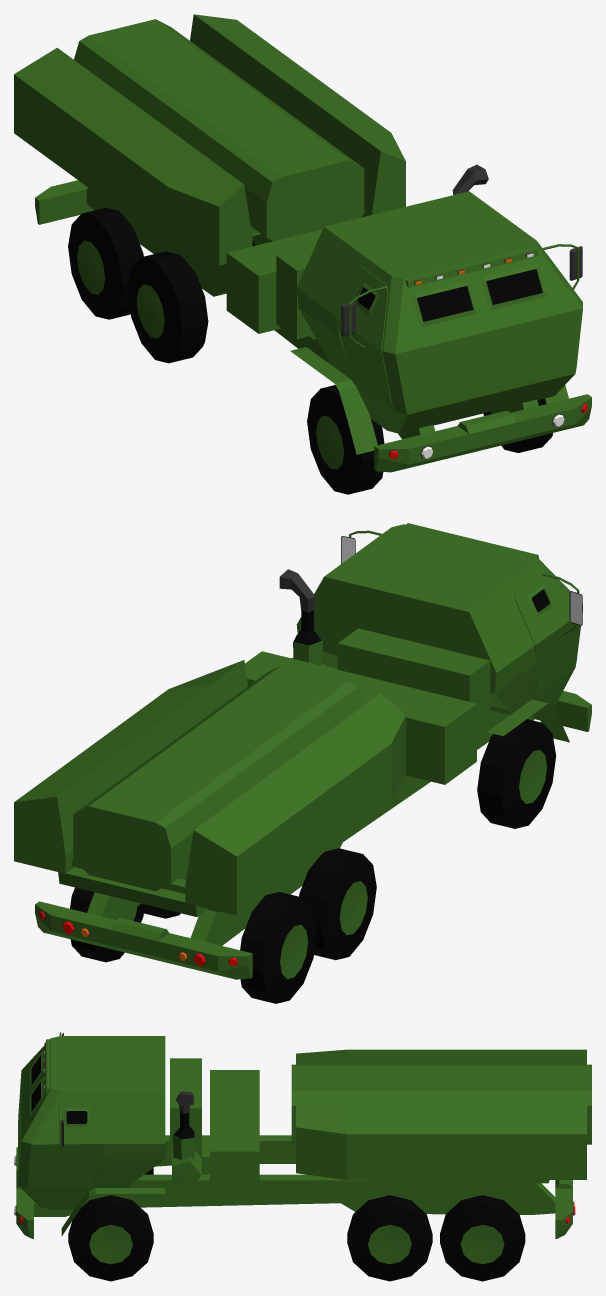
The picture shows the model from 3 angles, top to bottom: view 1: azimuth 30°, elevation 25°; view 2: azimuth 150°, elevation 25°; view 3: azimuth 270°, elevation 25°; orthographic projection. The views are drawn at different scales.
Visible parts, largest first — view 1: Plane.020, Cube.008, Cylinder.028, Cylinder.029, Cylinder.033, Plane.021, Cylinder.031, Cylinder.034; view 2: Plane.020, Cube.008, Cylinder.028, Cylinder.031, Cylinder.033, Cylinder.029, Plane.021, Cylinder.030; view 3: Plane.020, Cube.008, Cylinder.028, Cylinder.030, Cylinder.032, Cylinder.034, Plane.023, Cube.009.
Part boxes in pixels (x1,y1,x2,y2): Plane.020: [35, 164, 591, 472]; Cube.008: [14, 14, 405, 265]; Cylinder.028: [74, 19, 364, 241]; Cylinder.029: [127, 251, 208, 363]; Cylinder.033: [68, 207, 143, 319]; Plane.021: [334, 266, 392, 406]; Cylinder.031: [307, 385, 384, 494]; Cylinder.034: [483, 398, 552, 452]; Plane.020: [35, 523, 591, 979]; Cube.008: [14, 660, 405, 916]; Cylinder.028: [73, 665, 363, 891]; Cylinder.031: [477, 719, 555, 828]; Cylinder.033: [240, 892, 316, 1003]; Cylinder.029: [299, 848, 376, 960]; Plane.021: [514, 573, 582, 692]; Cylinder.030: [70, 887, 144, 962]; Plane.020: [14, 1036, 575, 1238]; Cube.008: [296, 1049, 586, 1179]; Cylinder.028: [291, 1064, 591, 1144]; Cylinder.030: [440, 1195, 525, 1281]; Cylinder.032: [347, 1195, 432, 1281]; Cylinder.034: [68, 1195, 153, 1281]; Plane.023: [29, 1099, 105, 1186]; Cube.009: [373, 1180, 549, 1183].
Size of the model in its own units: 338 by 323 by 901.
